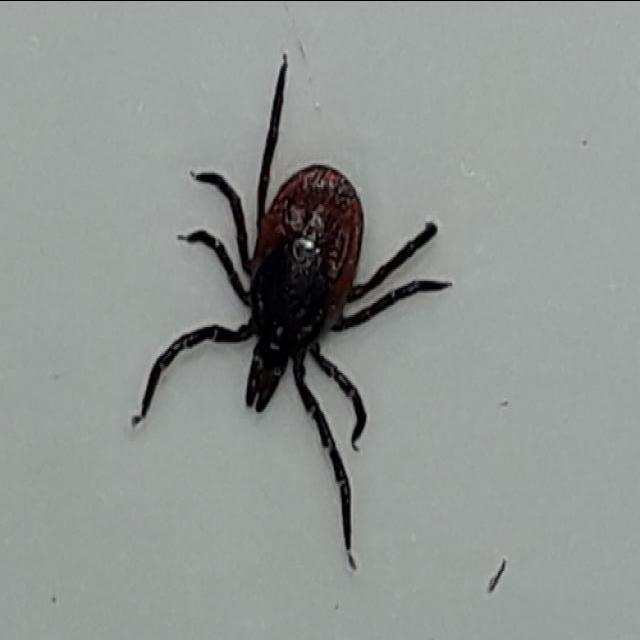Ixodes Ricinus-F: (133, 58, 454, 573)
